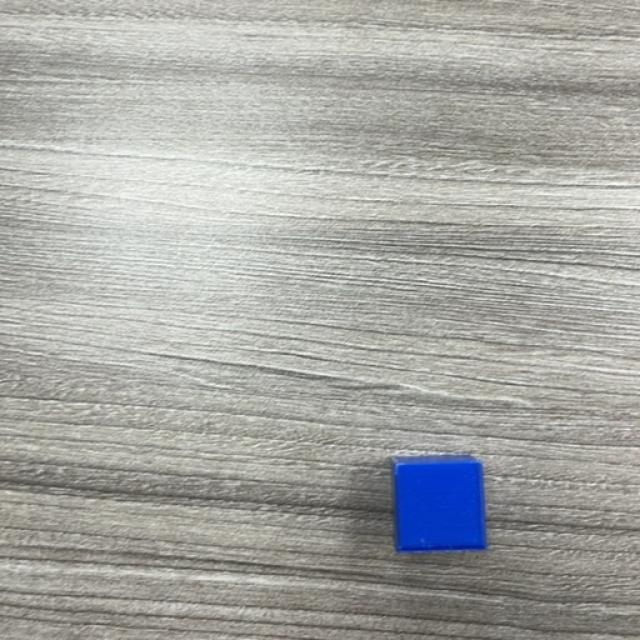Azul: (391, 458, 489, 556)
